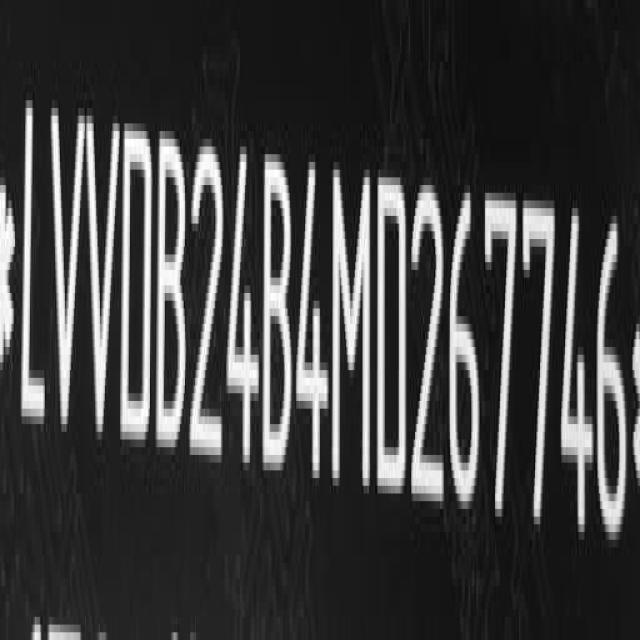2: (413, 178, 447, 517), (192, 134, 226, 472)
4: (558, 199, 594, 552), (224, 143, 258, 480), (298, 150, 331, 495)
6: (598, 211, 630, 556), (451, 181, 482, 524)
7: (523, 191, 556, 538), (486, 183, 518, 536)
B: (157, 126, 189, 462), (263, 148, 295, 484)
D: (378, 163, 414, 510), (122, 119, 156, 451)
L: (21, 102, 48, 441)
M: (334, 159, 374, 502)
V: (47, 97, 82, 444), (86, 103, 120, 450)
